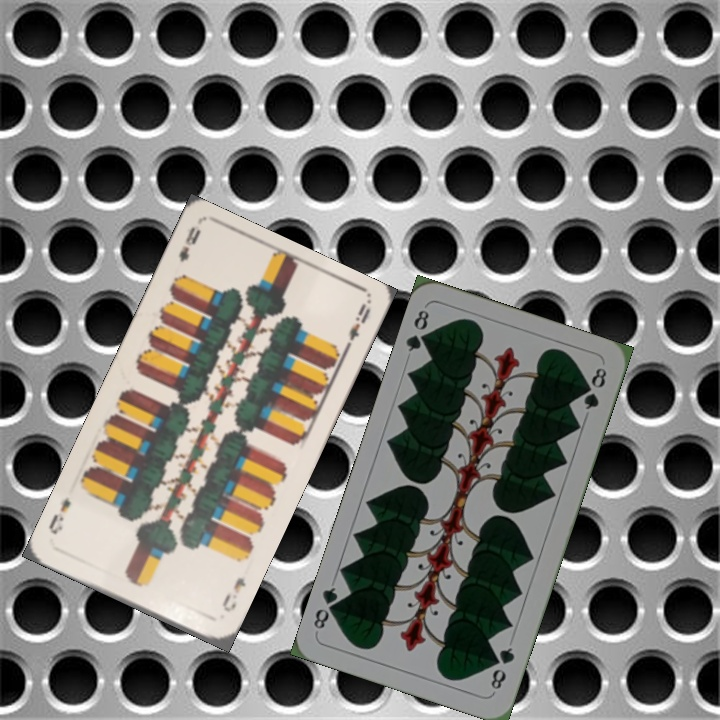E9: (217, 573, 249, 615), (174, 222, 204, 264)
G8: (401, 306, 434, 355), (486, 643, 517, 695)
